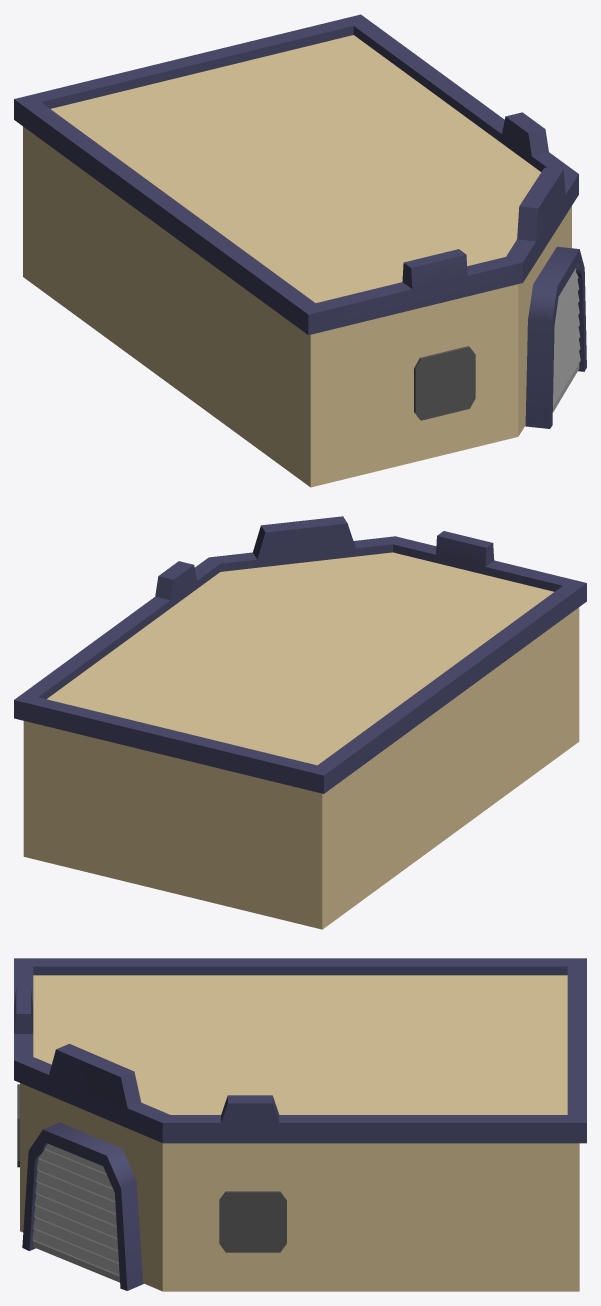
Rendered from WestFlatHouse.fbx.
3 renders of one model, top to bottom at view 1: azimuth 30°, elevation 25°; view 2: azimuth 150°, elevation 25°; view 3: azimuth 270°, elevation 25°, orthographic. The views are drawn at different scales.
Visible parts, largest first — view 1: WestFlatHouse; view 2: WestFlatHouse; view 3: WestFlatHouse.
Part boxes in pixels (x1,y1,x2,y2): WestFlatHouse: [14, 14, 586, 487]; WestFlatHouse: [14, 516, 586, 929]; WestFlatHouse: [14, 958, 586, 1291].
Size of the model in its own units: 2381 by 1359 by 3501.
